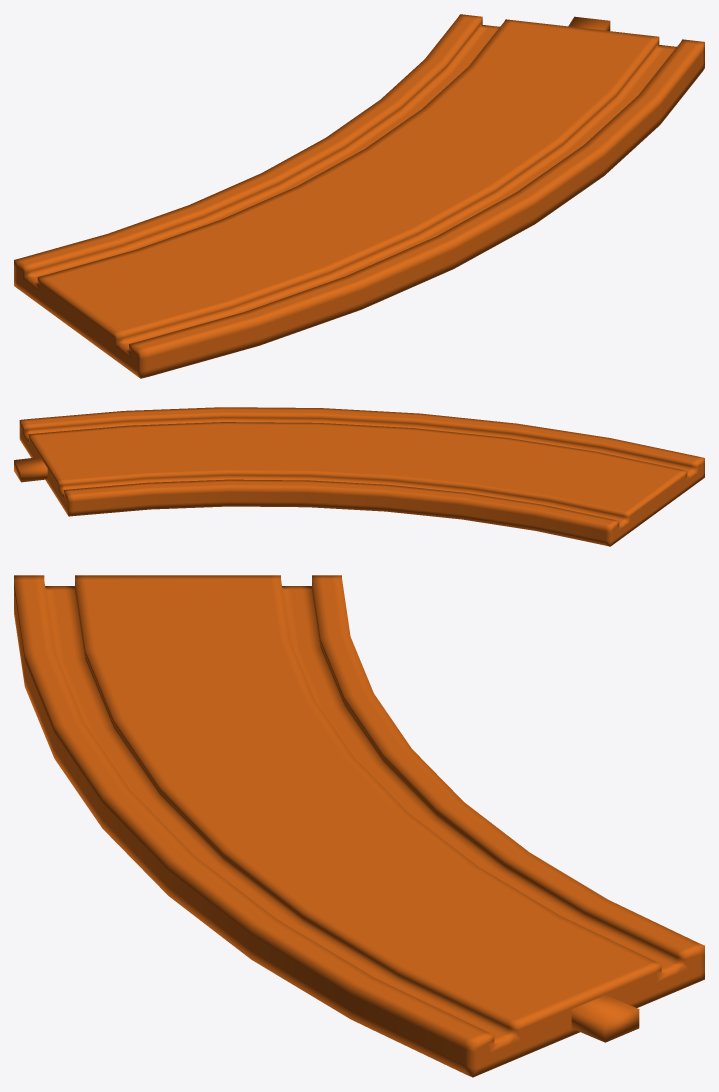
Rendered from train_rail_curve_left_01.FBX.
The picture shows the model from 3 angles, top to bottom: view 1: azimuth 30°, elevation 25°; view 2: azimuth 150°, elevation 25°; view 3: azimuth 270°, elevation 25°; orthographic projection. The views are drawn at different scales.
Visible parts, largest first — view 1: train_rail_curve_left_01; view 2: train_rail_curve_left_01; view 3: train_rail_curve_left_01.
Part boxes in pixels (x1=…): train_rail_curve_left_01: x1=14, y1=14, x2=704, y2=378; train_rail_curve_left_01: x1=14, y1=407, x2=704, y2=546; train_rail_curve_left_01: x1=14, y1=575, x2=704, y2=1077.
Bounding box in the file's own units: 1572 × 52.97 × 980.
